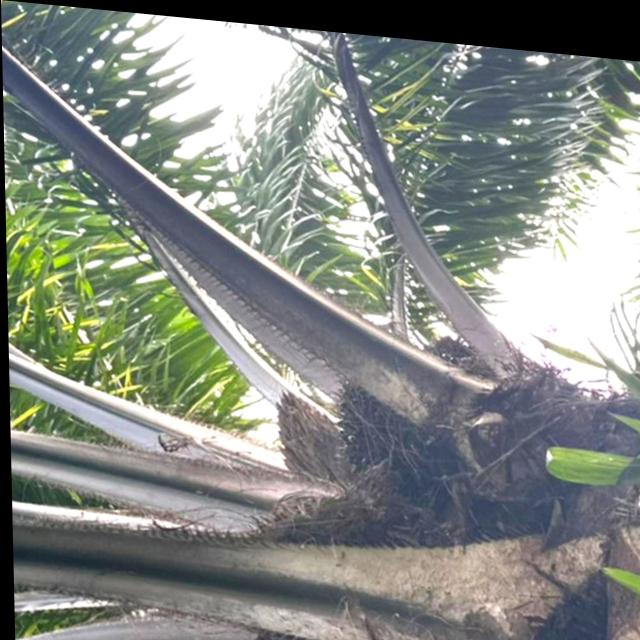unripe: (325, 372, 451, 491)
